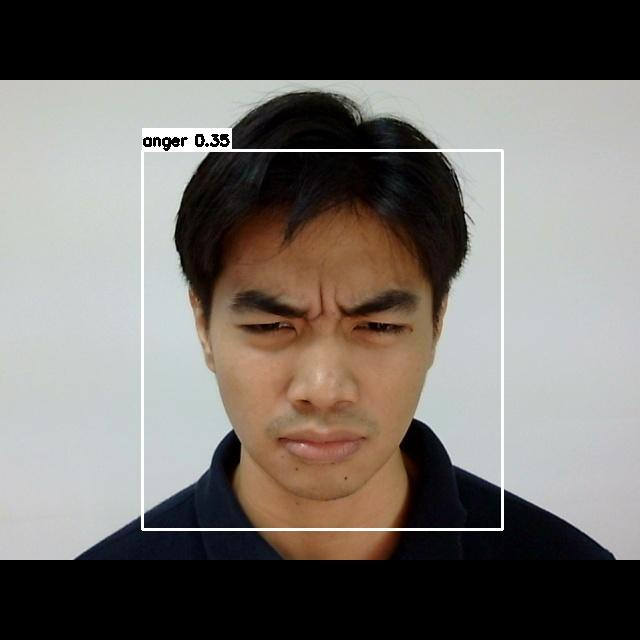Angry: (205, 250, 445, 479)
